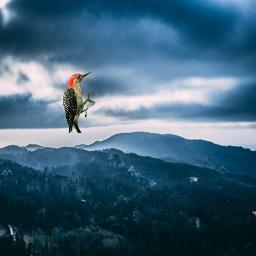Woodpecker: (63, 72, 95, 133)
